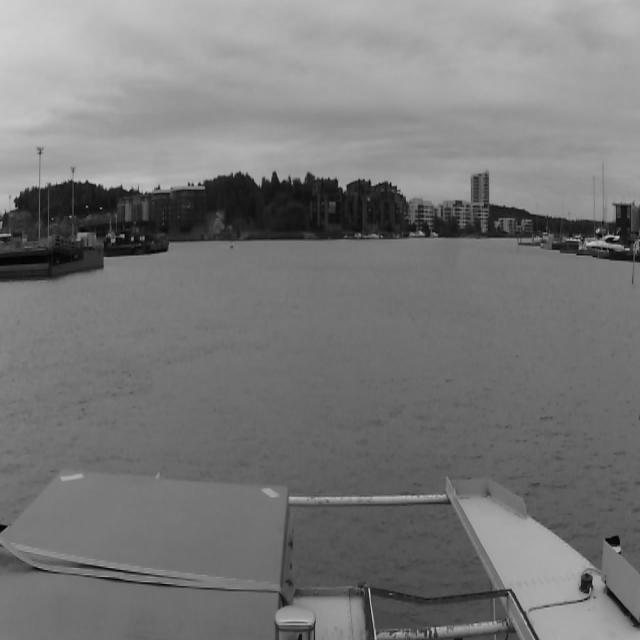ship: (580, 229, 626, 257), (230, 242, 235, 250)
